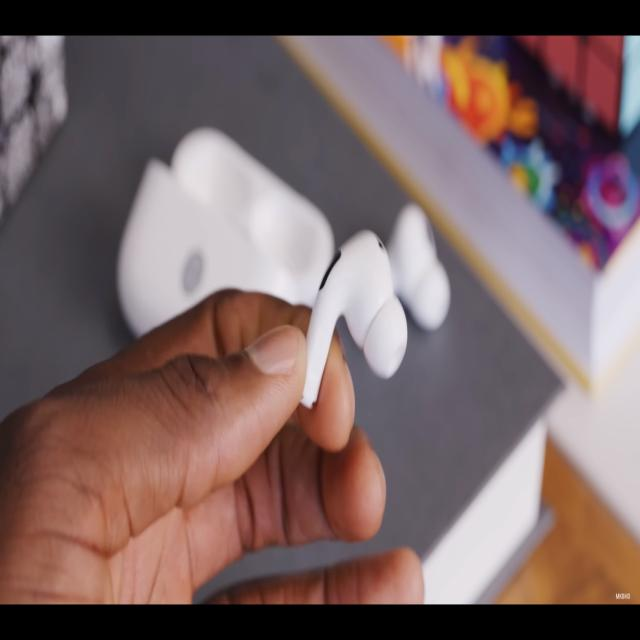airpods: (299, 225, 408, 413)
